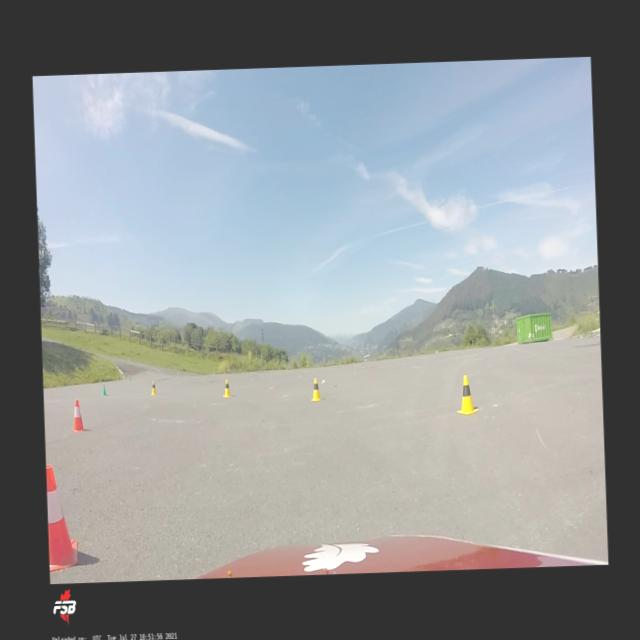orange_cone: (46, 464, 78, 570), (69, 398, 85, 432)
unknown_cone: (102, 383, 106, 395)
yellow_cone: (455, 374, 477, 414), (310, 377, 321, 401), (222, 378, 232, 397), (150, 380, 156, 394)
